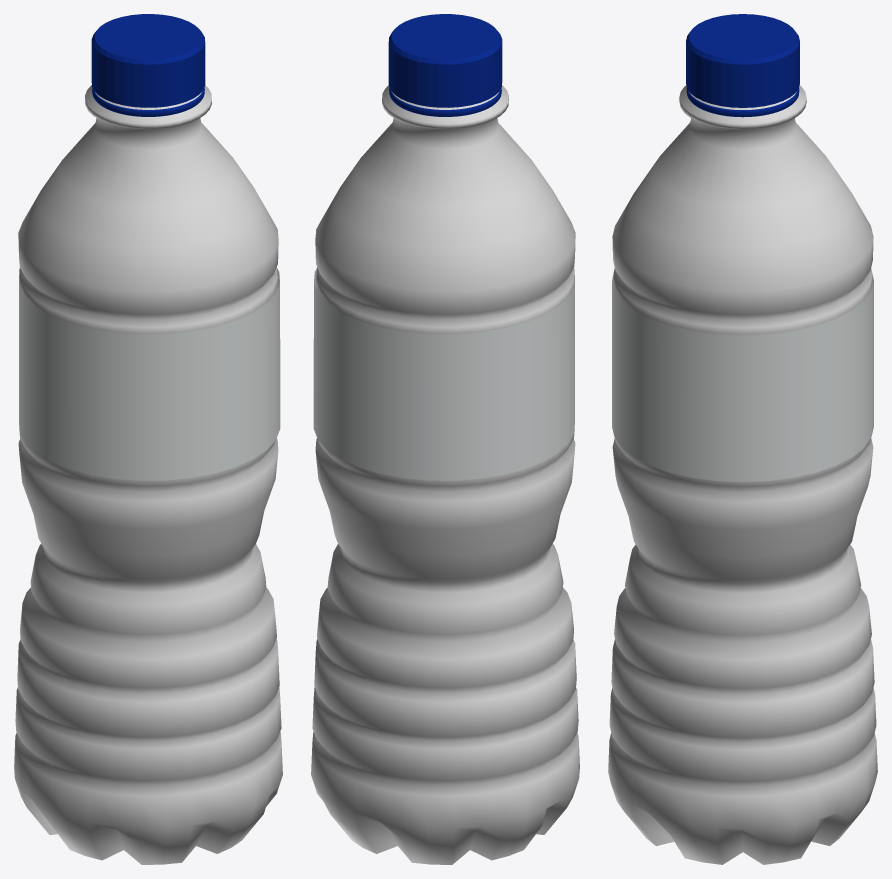
The model's file is Mineral Water.fbx.
The picture shows the model from 3 angles, left to right: view 1: azimuth 30°, elevation 25°; view 2: azimuth 150°, elevation 25°; view 3: azimuth 270°, elevation 25°; orthographic projection.
Parts seen in each view (by area): view 1: bottle, label, cap, cap2; view 2: bottle, label, cap, cap2; view 3: bottle, label, cap, cap2.
Part boxes in pixels (left/top/right/bottom): bottle: left=14, top=85, right=282, bottom=864; label: left=19, top=268, right=280, bottom=480; cap: left=91, top=14, right=205, bottom=107; cap2: left=92, top=87, right=204, bottom=116; bottle: left=311, top=85, right=579, bottom=864; label: left=313, top=268, right=574, bottom=480; cap: left=388, top=14, right=502, bottom=107; cap2: left=389, top=87, right=501, bottom=116; bottle: left=608, top=85, right=877, bottom=864; label: left=612, top=274, right=873, bottom=481; cap: left=686, top=14, right=799, bottom=107; cap2: left=686, top=88, right=799, bottom=117.
Bounding box in the file's own units: 32.16 × 103 × 32.16.
